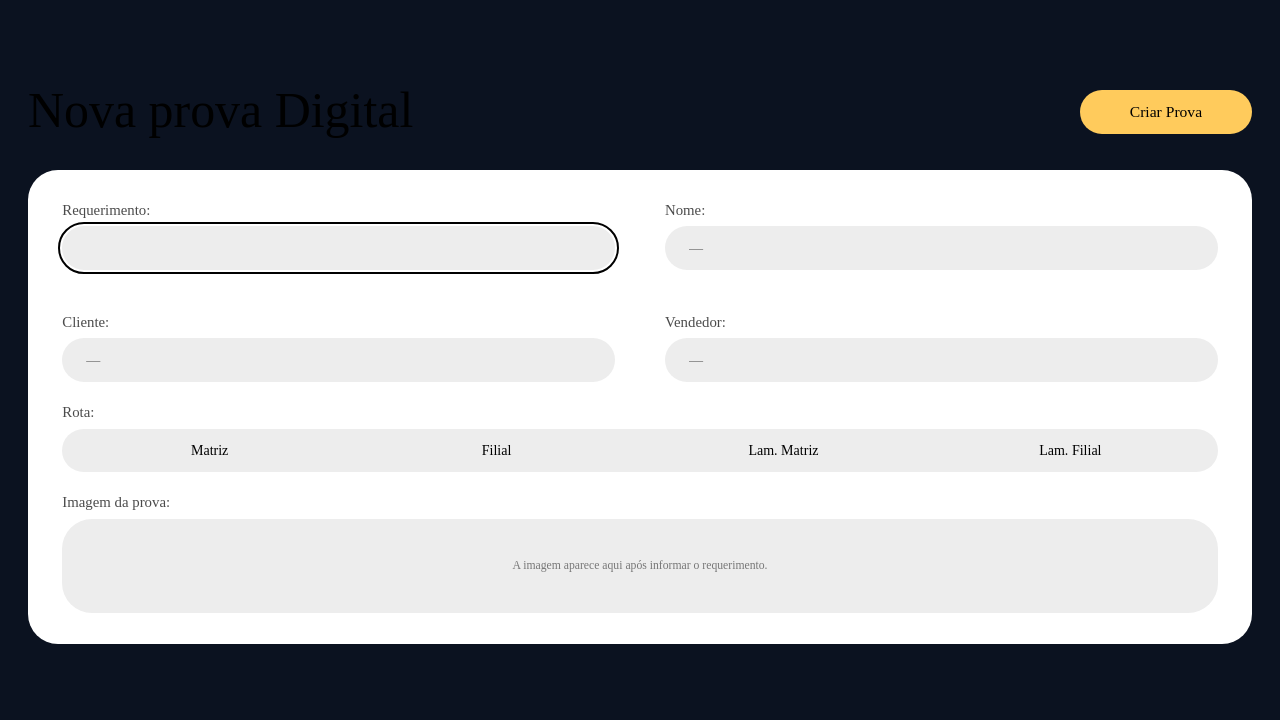
Test: NovaProvaView (Fatia 4 — criação por requerimento) › caminho feliz (DP-7): cria por requerimento, toast, baixa etiqueta e navega
The width and height of the screenshot is (1280, 720).
Type "150288" into the field labelled "Requerimento:" at (339, 248), box [62, 226, 615, 270]
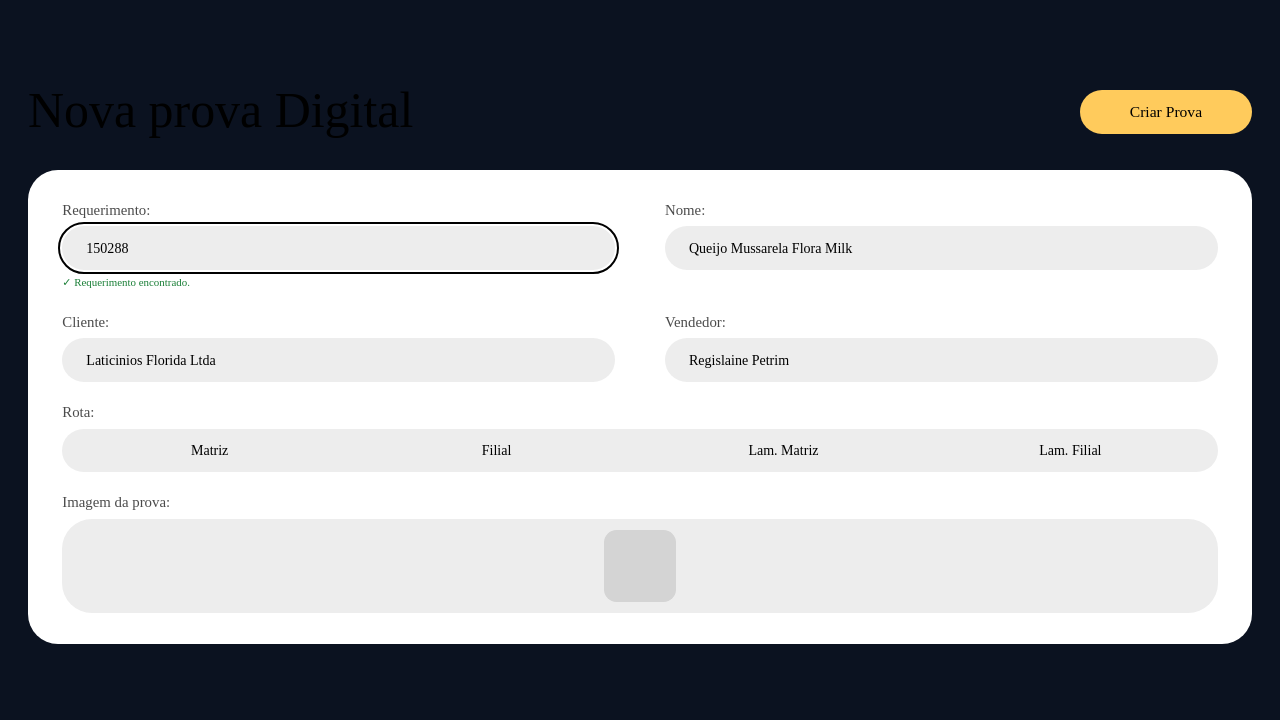
Check: the text "✓ Requerimento encontrado." is shown, box [62, 276, 190, 288]
Click the radio button labelled "Matriz" at (210, 451), box [66, 433, 353, 468]
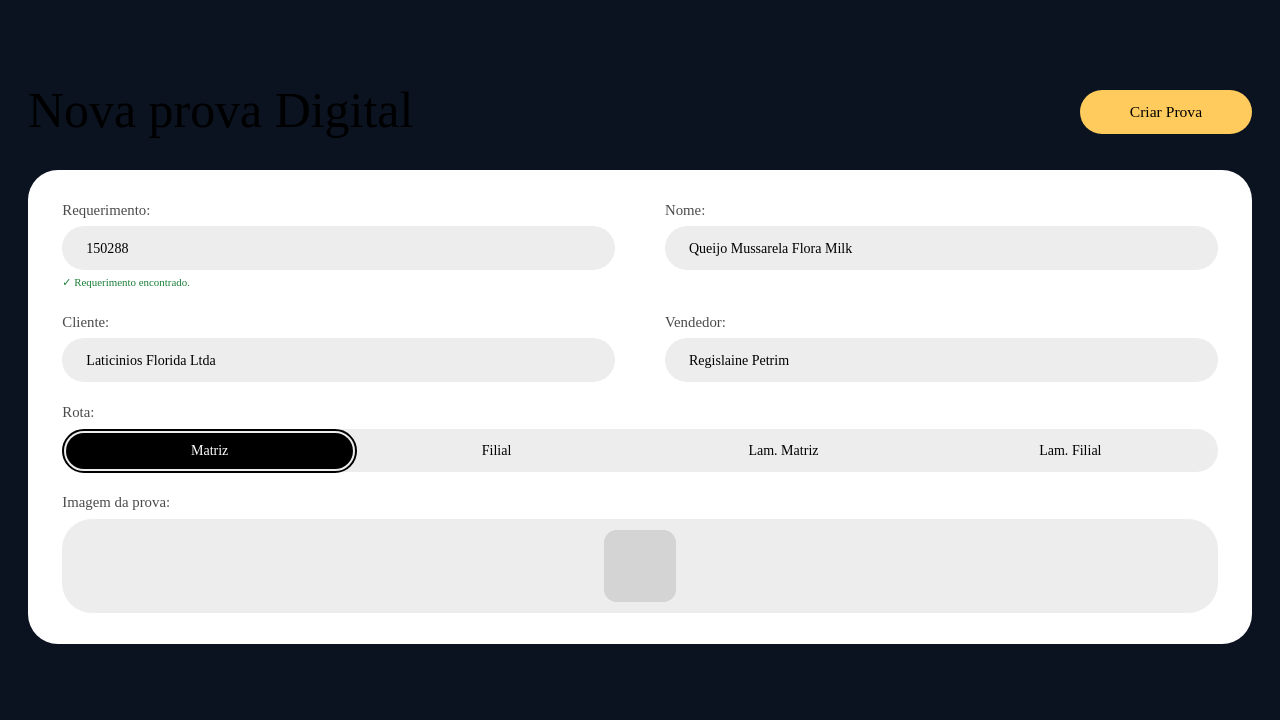
Click the button "Criar Prova" at (1166, 112), box [1080, 90, 1252, 134]
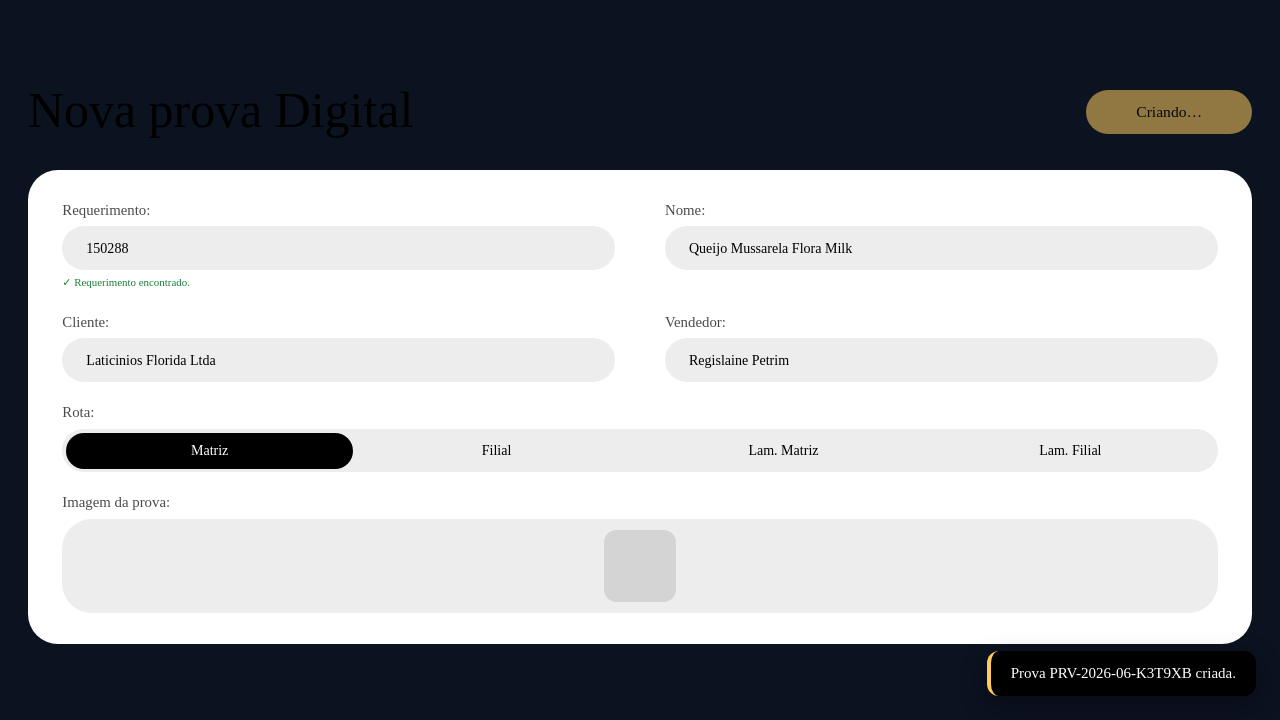
Check: the text "Prova PRV-2026-06-K3T9XB criada." is shown, box [987, 651, 1256, 696]
Check: the button "Criando…" is disabled, box [1086, 90, 1252, 134]
